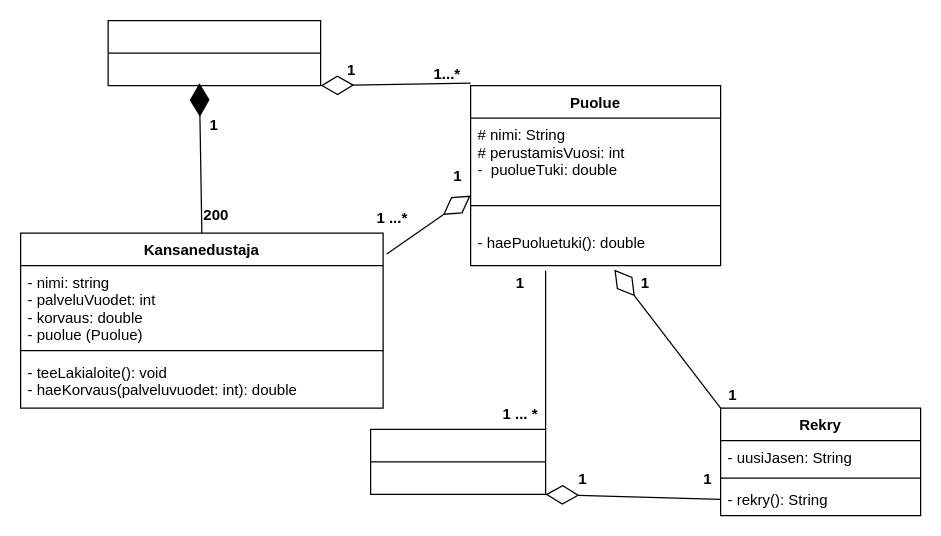
Some shapes in this 941 by 536 pixel diagram are drawn without their labels. Each missing label, with the centre of its shape:
"Eduskunta" goes at pixel 214 52.
"Yhdistys" goes at pixel 457 461.
